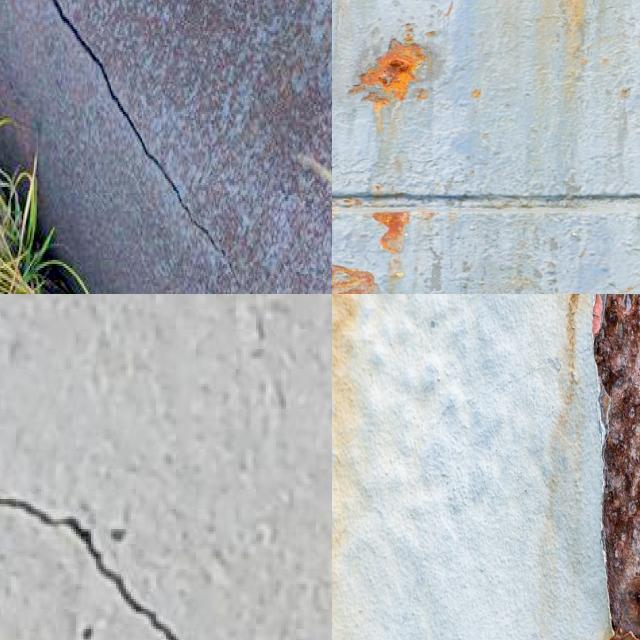Crack: (48, 0, 223, 254), (0, 497, 177, 640)
Uniform Corrosion: (349, 34, 425, 111), (372, 212, 409, 254), (332, 265, 377, 294)
